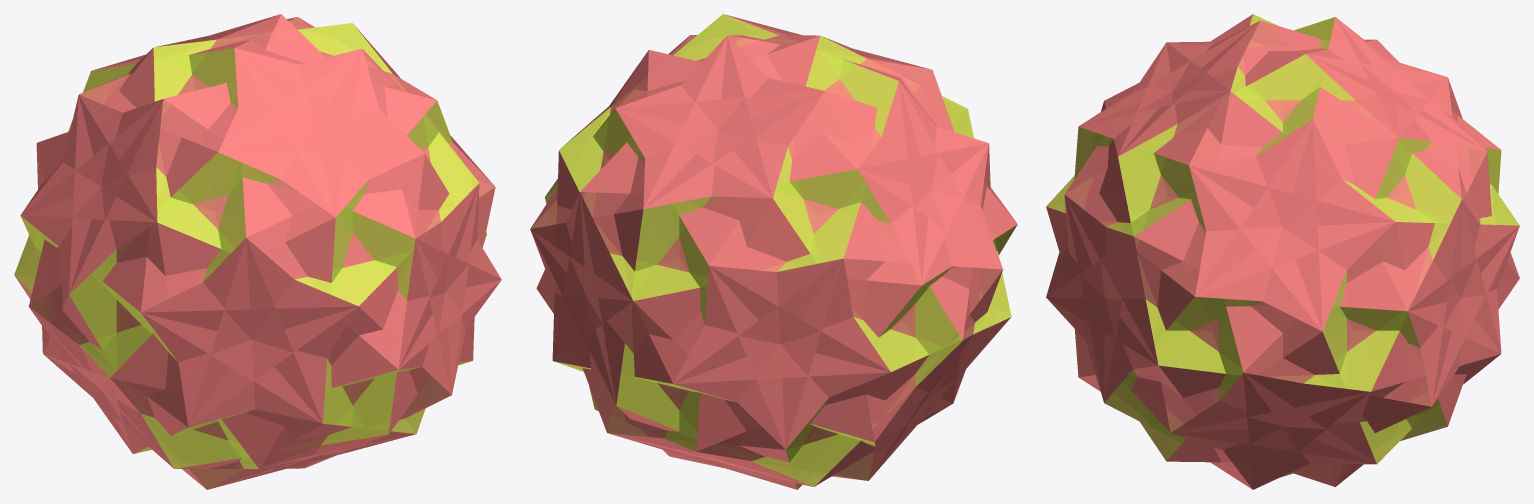
File: SnubIcosidodecadodecahedronA.obj
3 renders of one model, left to right at view 1: azimuth 30°, elevation 25°; view 2: azimuth 150°, elevation 25°; view 3: azimuth 270°, elevation 25°, orthographic.
Bounding box in the file's own units: 2.21 × 2.21 × 2.21.
